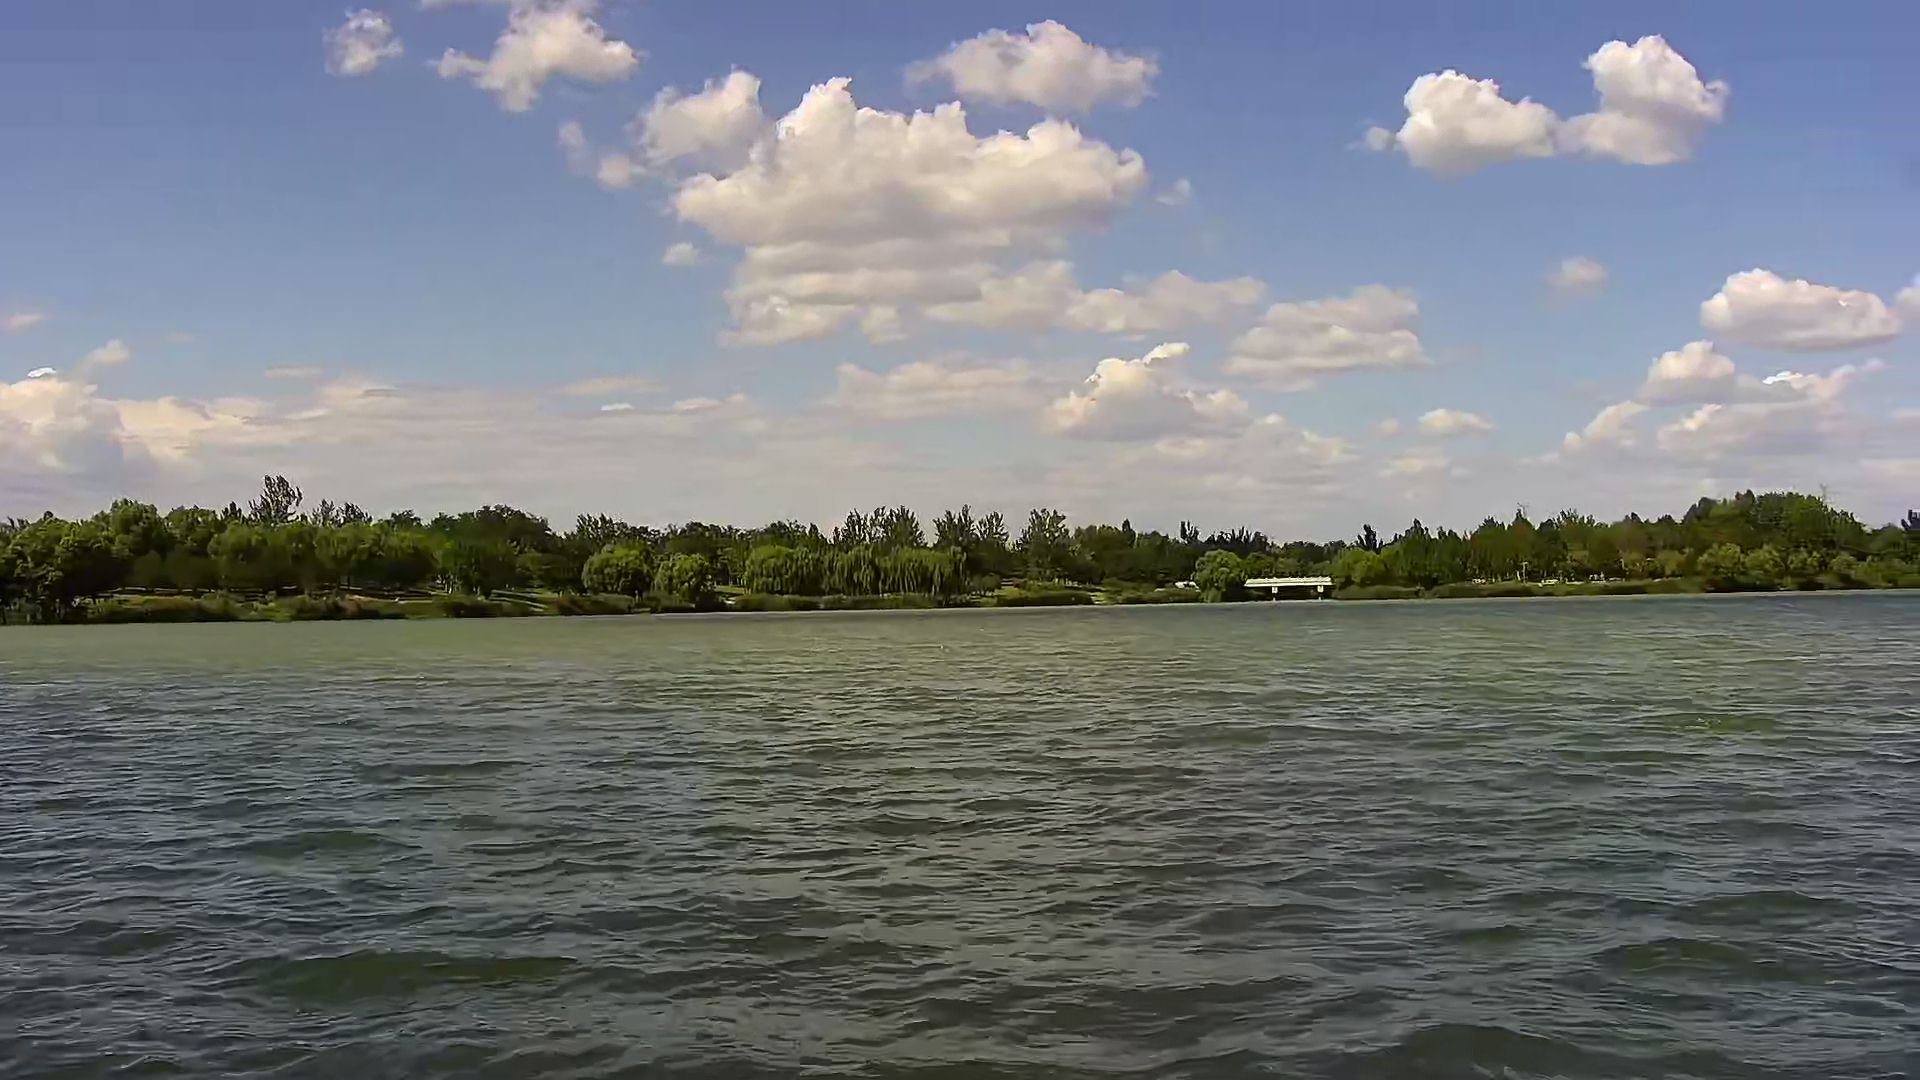bridge: (1244, 574, 1335, 607)
